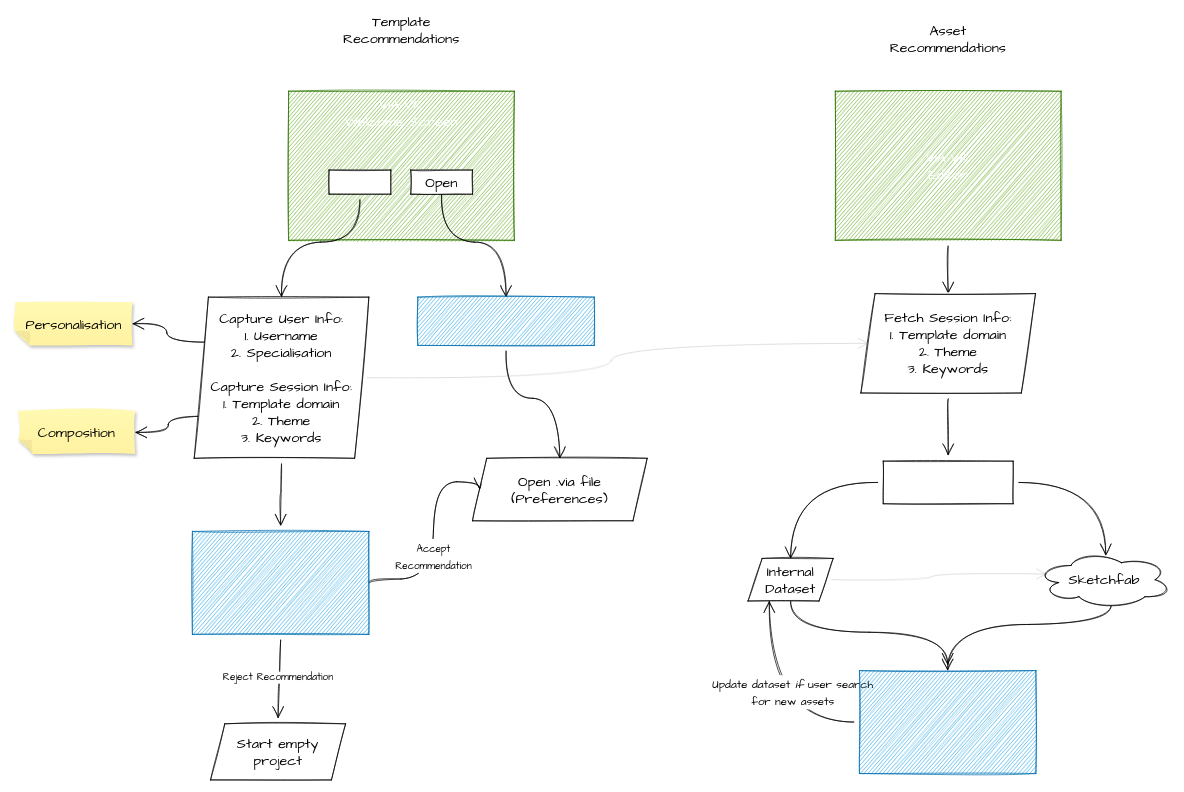
Image size: 1184x792. Some labels were removed from this diagram. The shapes that lost their labels are listed below. From the top down, each one's centre as x and y in pixels, then its label:
pixel 359 181: New
pixel 505 320: No Recommendations
pixel 948 482: RS Server
pixel 280 582: Provide Template Recommendations based on session info
pixel 947 722: Display Recommended Assets on Editor Asset Panel
